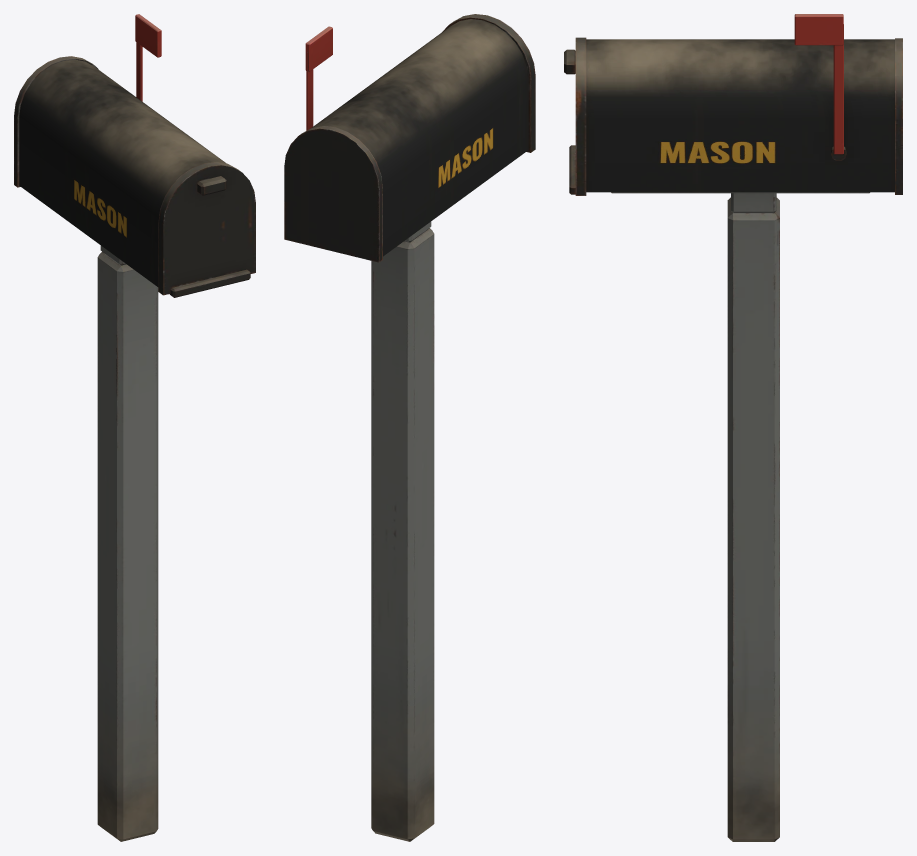
Rendered from mailbox_mason.glb.
The picture shows the model from 3 angles, left to right: view 1: azimuth 30°, elevation 25°; view 2: azimuth 150°, elevation 25°; view 3: azimuth 270°, elevation 25°; orthographic projection. The views are drawn at different scales.
Parts seen in each view (by area): view 1: mailbox_mason, mailbox_flag; view 2: mailbox_mason, mailbox_flag; view 3: mailbox_mason, mailbox_flag.
Part boxes in pixels (left/top/right/bottom): mailbox_mason: left=14, top=56, right=255, bottom=841; mailbox_flag: left=135, top=14, right=161, bottom=101; mailbox_mason: left=284, top=14, right=535, bottom=841; mailbox_flag: left=305, top=26, right=332, bottom=130; mailbox_mason: left=564, top=37, right=902, bottom=841; mailbox_flag: left=794, top=14, right=843, bottom=154.
Size of the model in its own units: 0.1907 by 1.43 by 0.518.
2 materials, 2 textured.
